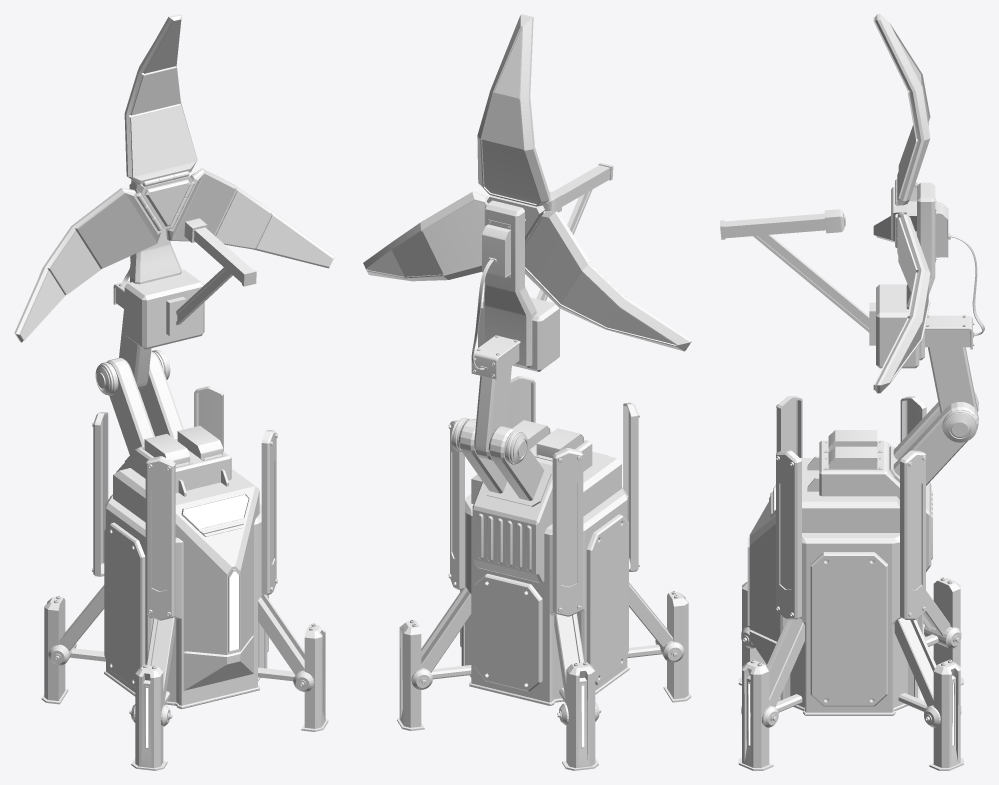
Rendered from KB3D_FTW_PropMobileRadar_A_grp.glb.
3 views of the same model, side by side, from view 1: azimuth 30°, elevation 25°; view 2: azimuth 150°, elevation 25°; view 3: azimuth 270°, elevation 25° (orthographic). The views are drawn at different scales.
Parts seen in each view (by area): view 1: KB3D_FTW_PropMobileRadar_A_Main; view 2: KB3D_FTW_PropMobileRadar_A_Main; view 3: KB3D_FTW_PropMobileRadar_A_Main.
Part boxes in pixels (x1,y1,x2,y2): KB3D_FTW_PropMobileRadar_A_Main: (14,14,334,770); KB3D_FTW_PropMobileRadar_A_Main: (363,14,691,770); KB3D_FTW_PropMobileRadar_A_Main: (720,14,984,770).
Bounding box in the file's own units: 1.28 × 2.63 × 0.8918.
10 materials, 1 textured.
